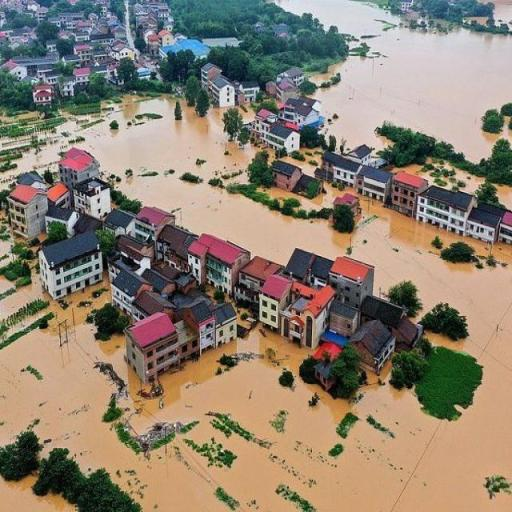flood: (0, 96, 512, 512), (280, 0, 512, 160), (0, 477, 75, 512)
house: (41, 222, 103, 300), (197, 227, 250, 300), (126, 313, 178, 384), (284, 282, 336, 352), (418, 183, 473, 235), (388, 168, 434, 222), (8, 178, 48, 240), (352, 320, 394, 379), (184, 296, 222, 359), (332, 253, 376, 301), (239, 256, 278, 307), (159, 222, 199, 269), (364, 290, 408, 330), (467, 197, 504, 244), (284, 244, 326, 285), (59, 146, 100, 188), (77, 180, 112, 218), (358, 164, 390, 205), (108, 271, 138, 313), (137, 202, 174, 236), (326, 149, 360, 186), (265, 119, 298, 157), (136, 285, 174, 318), (331, 189, 359, 233), (260, 277, 280, 334), (332, 298, 360, 335), (214, 304, 241, 342), (271, 158, 302, 191), (294, 174, 324, 200), (489, 0, 512, 30), (46, 182, 72, 208), (212, 78, 234, 106), (498, 208, 512, 246), (70, 66, 92, 90), (3, 58, 26, 78), (241, 79, 259, 104), (32, 84, 53, 105), (60, 13, 83, 31), (286, 66, 306, 86), (298, 104, 320, 122), (74, 44, 94, 63), (352, 144, 373, 162), (202, 63, 221, 82), (159, 29, 173, 48), (115, 45, 135, 58), (90, 34, 116, 43)
